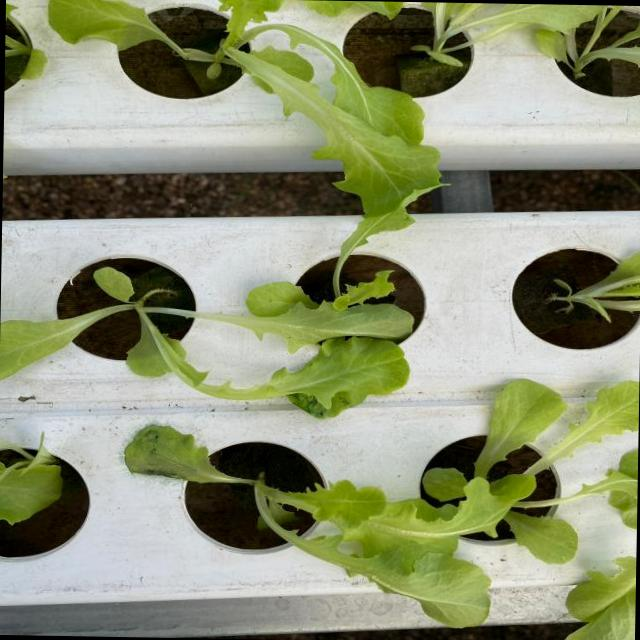Lettuce-Not-Ready-to-Harvest: (42, 0, 435, 232), (120, 422, 498, 634), (0, 256, 411, 411), (422, 364, 639, 556), (418, 2, 612, 73)
